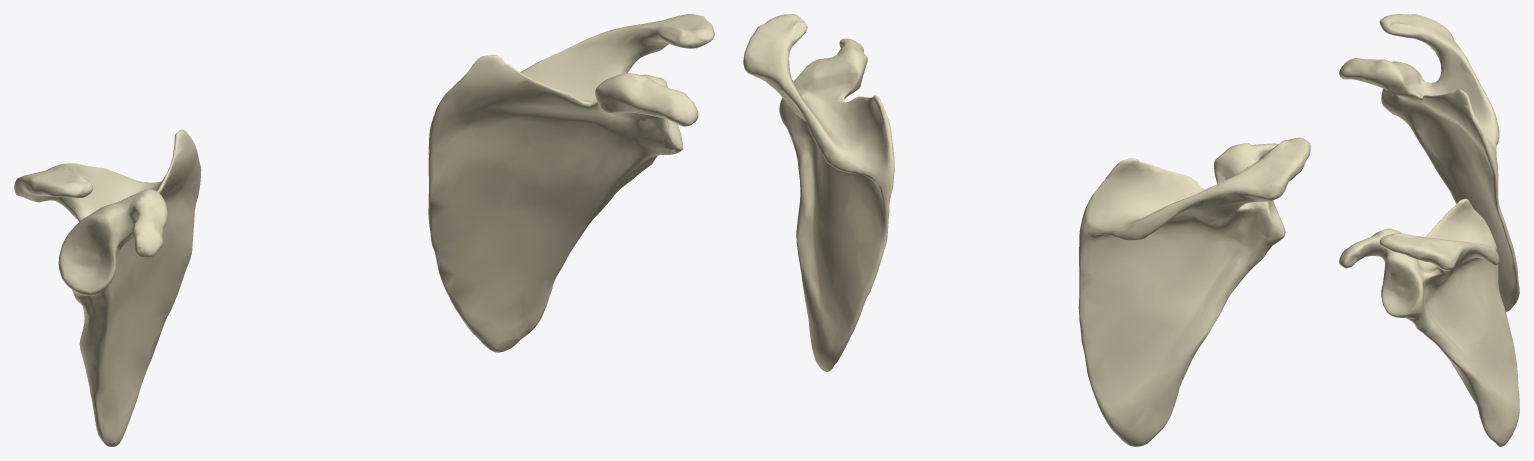
Rendered from scapula.glb.
3 views of the same model, side by side, from view 1: azimuth 30°, elevation 25°; view 2: azimuth 150°, elevation 25°; view 3: azimuth 270°, elevation 25° (orthographic). The views are drawn at different scales.
Visible parts, largest first — view 1: Scapula; view 2: Scapula; view 3: Scapula.
Part boxes in pixels (x1=…): Scapula: x1=14, y1=14, x2=714, y2=446; Scapula: x1=743, y1=14, x2=1310, y2=446; Scapula: x1=1339, y1=14, x2=1519, y2=446.
Bounding box in the file's own units: 0.3329 × 0.1659 × 0.1079.
